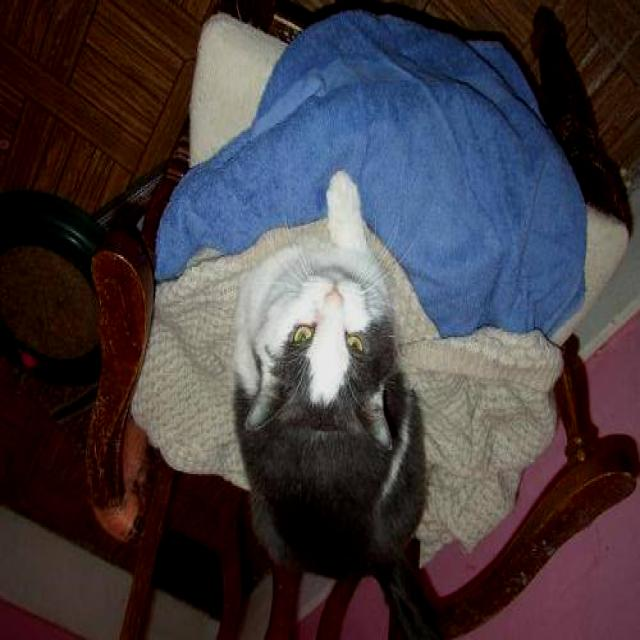Kucing: (222, 182, 506, 622)
